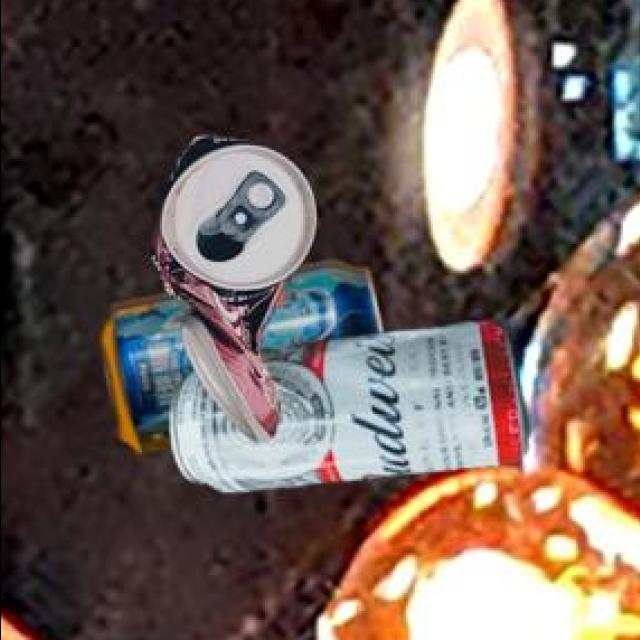logam: (173, 317, 534, 489), (104, 258, 384, 449), (153, 133, 319, 440)
